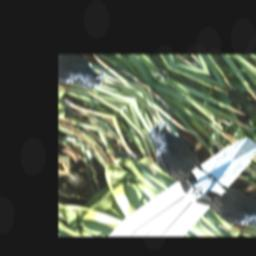Crow: (129, 118, 224, 197)
